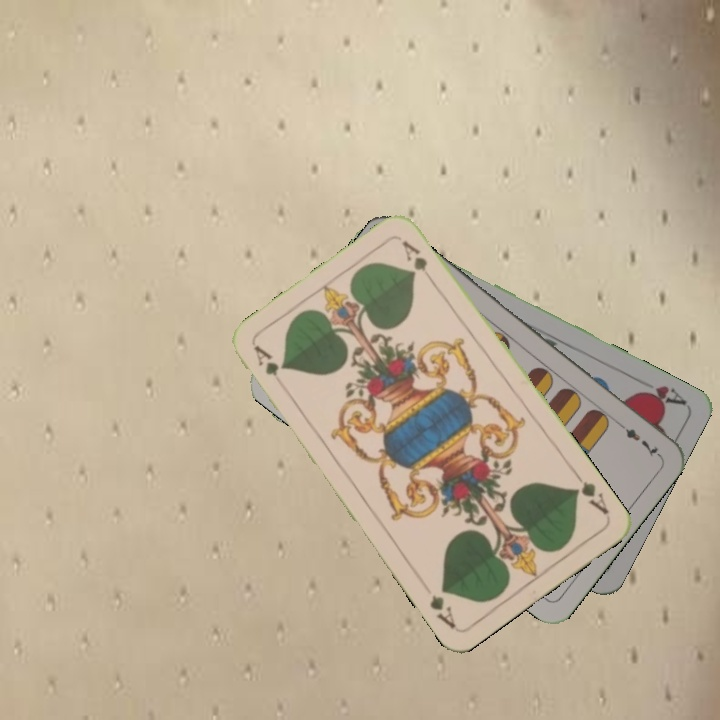E7: (612, 417, 662, 459)
GA: (568, 468, 612, 518), (249, 341, 282, 379)
HA: (632, 374, 689, 409)
